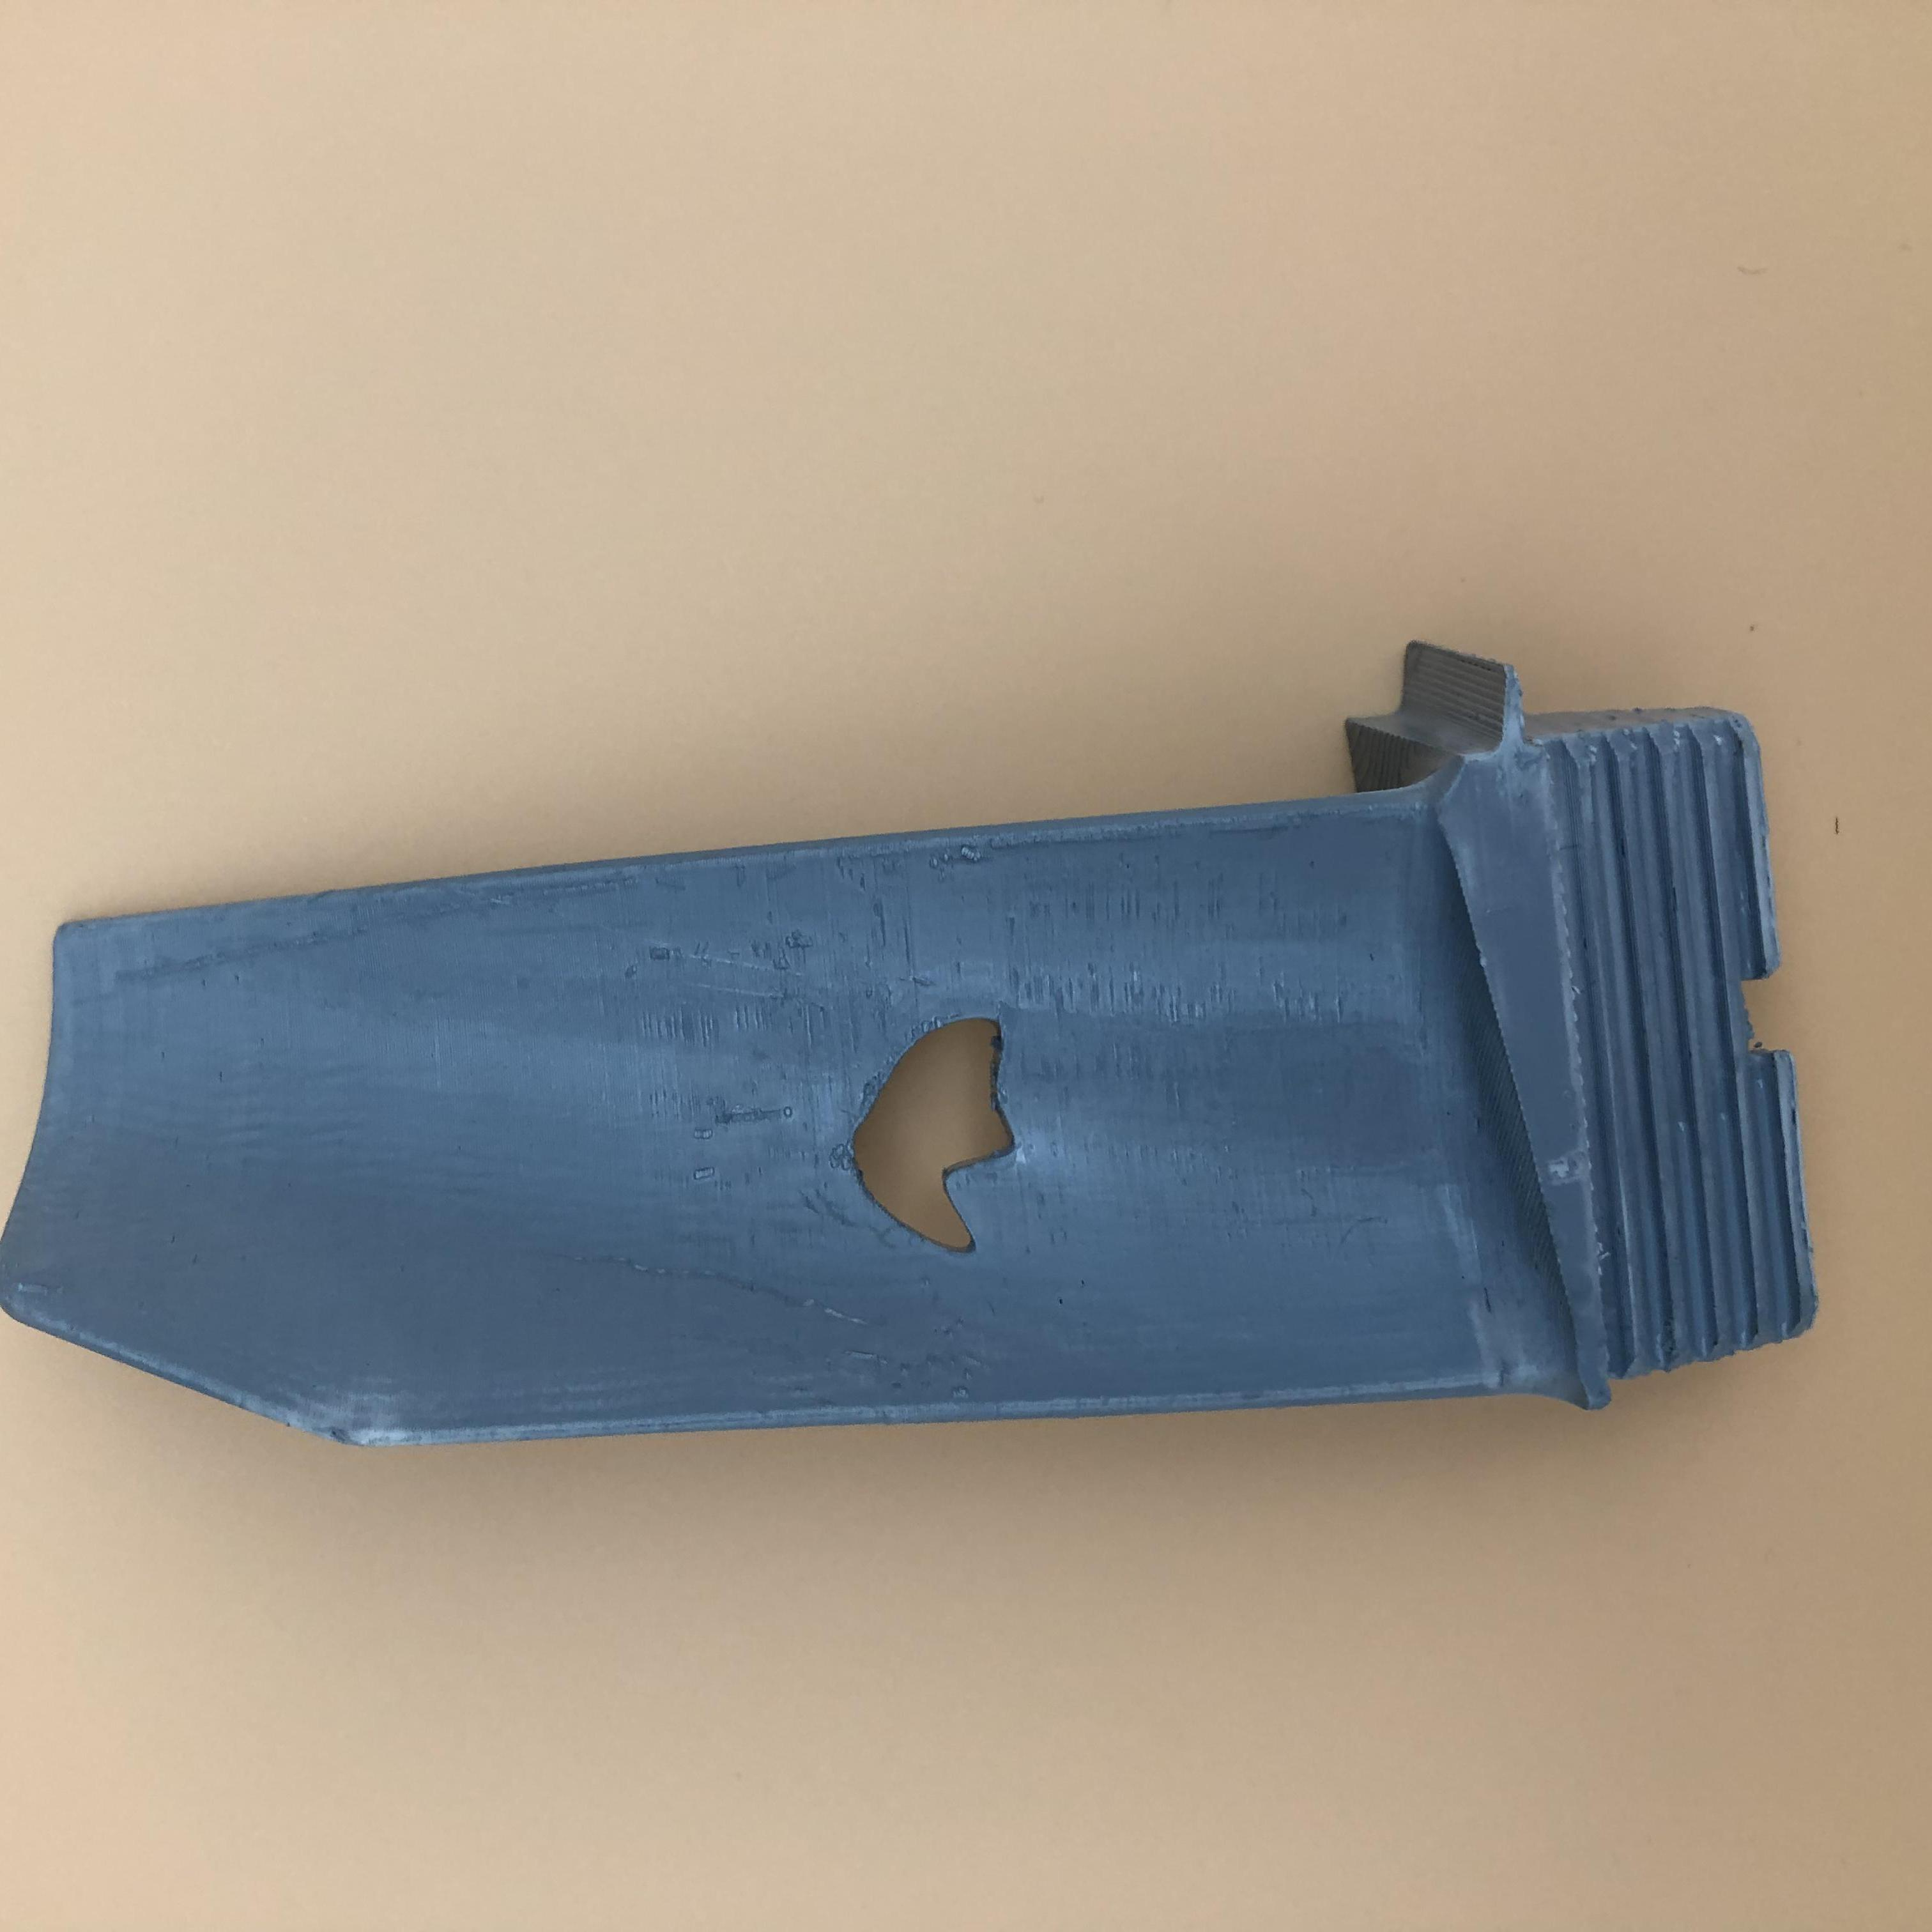breakdown: (835, 1028, 1030, 1270)
